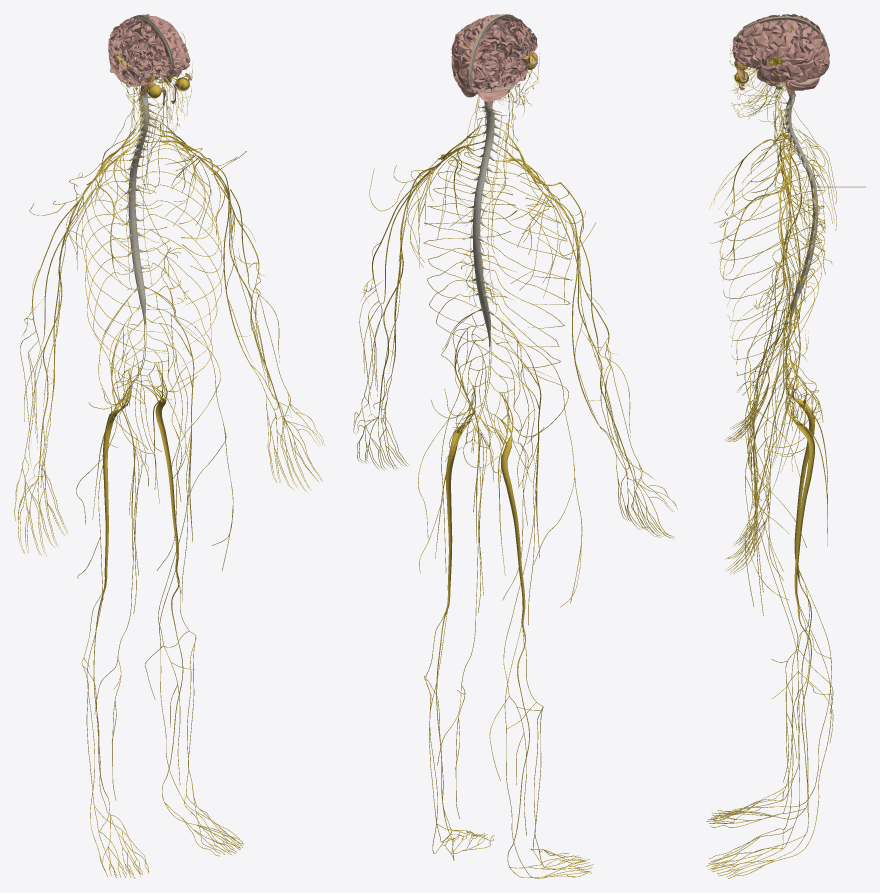
The model's file is nervous.glb.
The picture shows the model from 3 angles, left to right: view 1: azimuth 30°, elevation 25°; view 2: azimuth 150°, elevation 25°; view 3: azimuth 270°, elevation 25°; orthographic projection. The views are drawn at different scales.
Parts seen in each view (by area): view 1: Spinal_dura, Intercostal_nerves|r, Intercostal_nerves|l, Sciatic_nerve|r, Sciatic_nerve|l; view 2: Spinal_dura, Intercostal_nerves|l, Intercostal_nerves|r, Sciatic_nerve|r, Sciatic_nerve|l; view 3: Intercostal_nerves|l, Spinal_dura, Intercostal_nerves|r, Sciatic_nerve|l, Sciatic_nerve|r, Middle_frontal_gyrus|l, Saphenous_nerve|l, Lateral_femoral_cutaneous_nerve|l, Median_nerve|l, Saphenous_nerve|r, Middle_temporal_gyrus|l, Vagus_nerve_(X)|r (+13 smaller).
Part boxes in pixels (x1,y1,x2,y2): Spinal_dura: (125, 93, 154, 328); Intercostal_nerves|r: (81, 146, 171, 386); Intercostal_nerves|l: (138, 141, 224, 383); Sciatic_nerve|r: (102, 369, 130, 585); Sciatic_nerve|l: (144, 362, 178, 567); Spinal_dura: (469, 101, 499, 346); Intercostal_nerves|l: (423, 152, 517, 363); Intercostal_nerves|r: (484, 160, 572, 367); Sciatic_nerve|r: (488, 393, 525, 621); Sciatic_nerve|l: (445, 386, 474, 603); Intercostal_nerves|l: (719, 151, 825, 375); Spinal_dura: (784, 94, 818, 324); Intercostal_nerves|r: (719, 138, 824, 364); Sciatic_nerve|l: (785, 378, 814, 601); Sciatic_nerve|r: (785, 364, 814, 567); Middle_frontal_gyrus|l: (734, 29, 781, 61); Saphenous_nerve|l: (750, 442, 833, 813); Lateral_femoral_cutaneous_nerve|l: (744, 334, 806, 606); Median_nerve|l: (757, 195, 790, 499); Saphenous_nerve|r: (751, 417, 833, 782); Middle_temporal_gyrus|l: (762, 59, 815, 81); Vagus_nerve_(X)|r: (753, 84, 801, 315).
Size of the model in its own units: 0.6845 by 1.74 by 0.3035.
